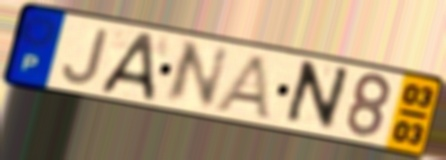8: (345, 72, 392, 140)
A: (96, 31, 158, 103), (211, 54, 274, 123)
J: (60, 26, 112, 87)
N: (279, 58, 353, 134), (159, 39, 233, 110)
